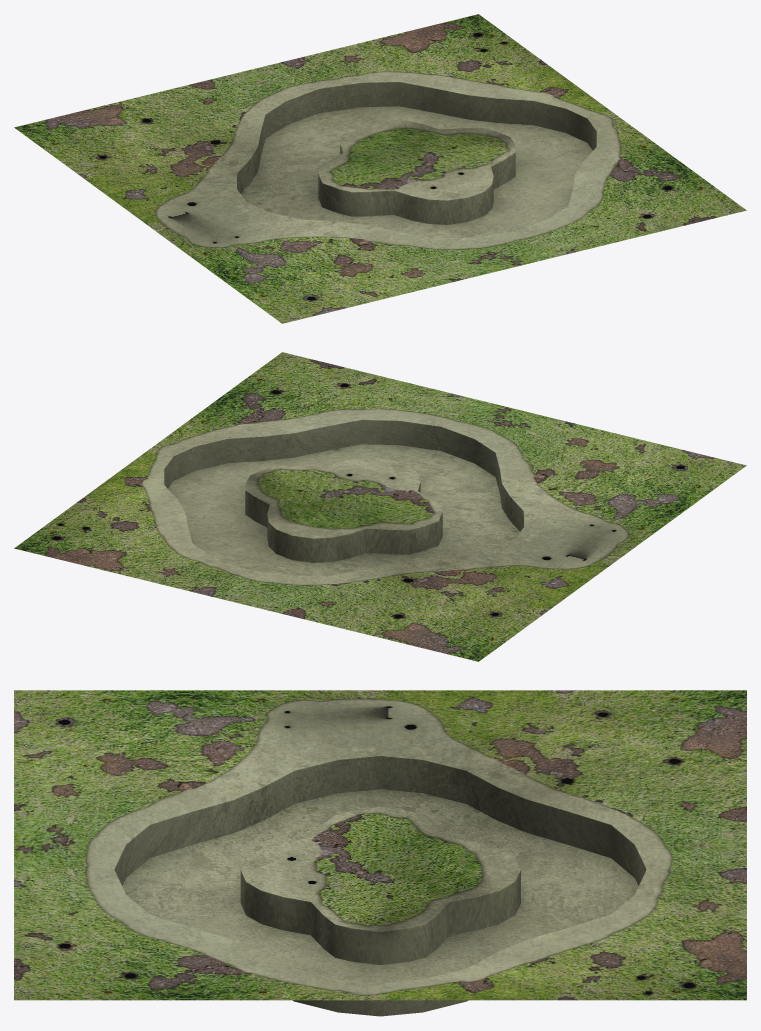
Rendered from stuga_yuka.FBX.
3 views of the same model, one above another, from view 1: azimuth 30°, elevation 25°; view 2: azimuth 150°, elevation 25°; view 3: azimuth 270°, elevation 25° (orthographic). The views are drawn at different scales.
Parts seen in each view (by area): view 1: Plane001; view 2: Plane001; view 3: Plane001.
Part boxes in pixels (x1,y1,x2,y2): Plane001: (14,14,746,323); Plane001: (14,352,746,661); Plane001: (14,690,746,1016).
Size of the model in its own units: 407 by 20.4 by 407.
